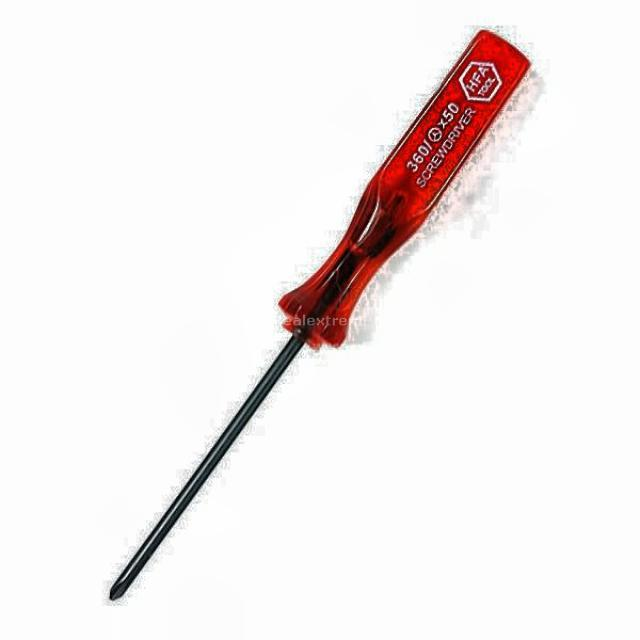screwdriver: (109, 29, 534, 599)
